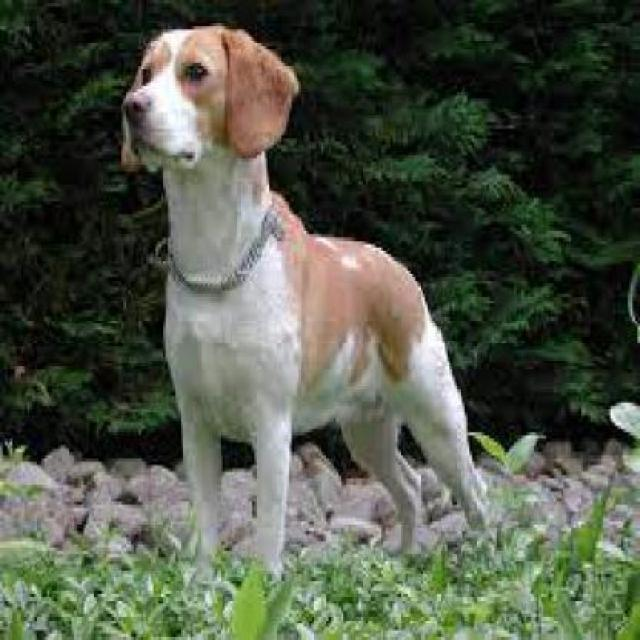Dog: (115, 24, 497, 602)
